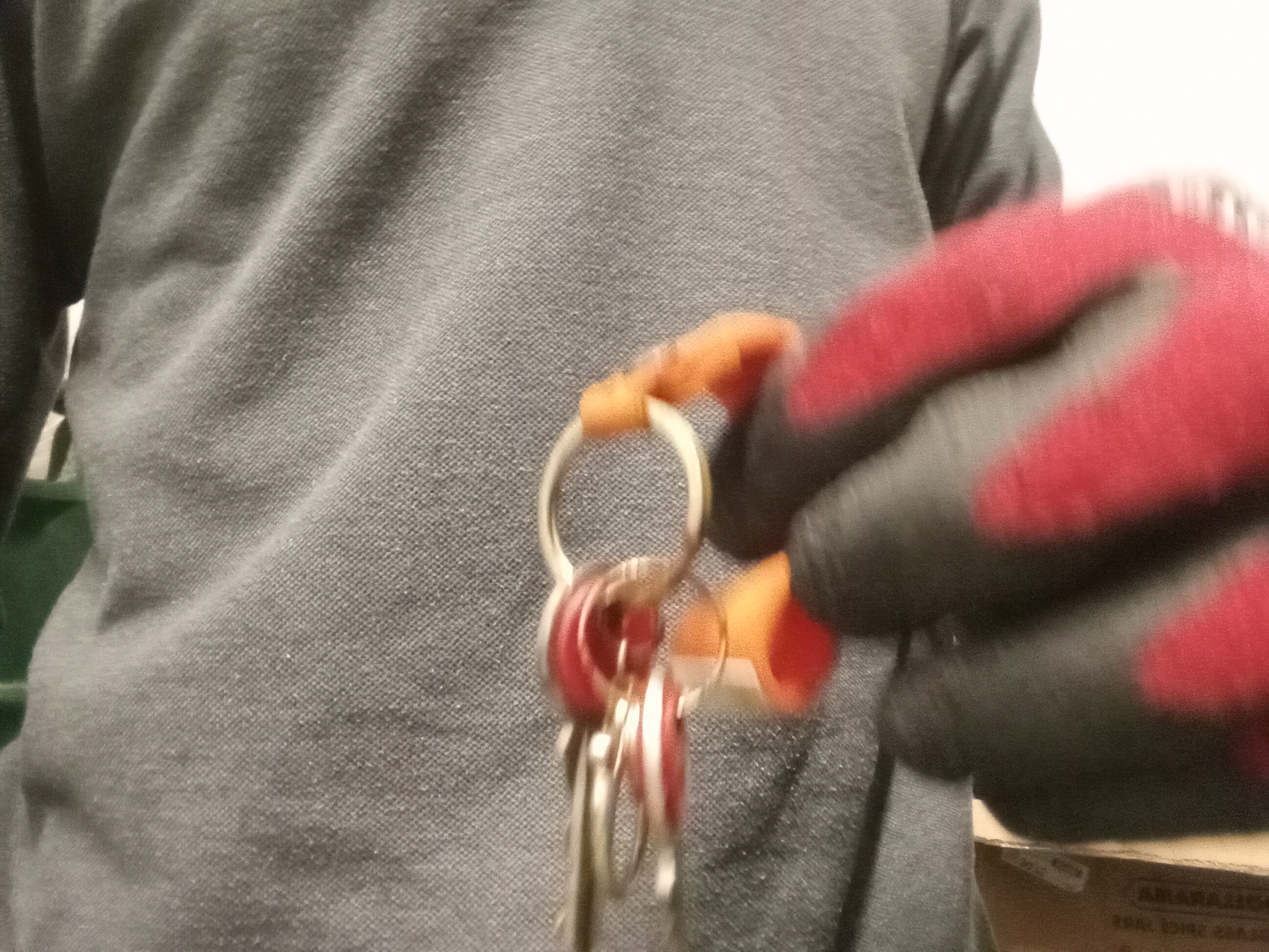Metal: (534, 382, 713, 952)
